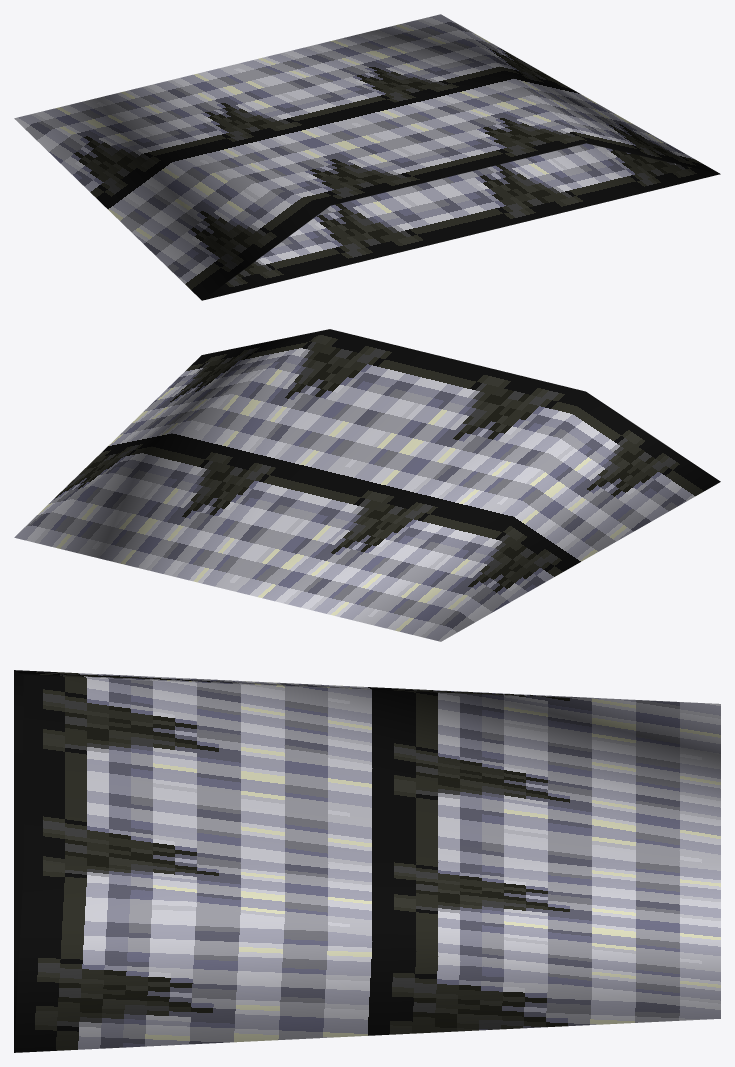
File: 2311skirt00_c.gltf
3 views of the same model, one above another, from view 1: azimuth 30°, elevation 25°; view 2: azimuth 150°, elevation 25°; view 3: azimuth 270°, elevation 25° (orthographic). The views are drawn at different scales.
Visible parts, largest first — view 1: 2311skirt00_c; view 2: 2311skirt00_c; view 3: 2311skirt00_c.
Boxes of the visible parts, x1,y1,x2,y2 form: 2311skirt00_c: [14, 14, 720, 300]; 2311skirt00_c: [14, 329, 720, 641]; 2311skirt00_c: [14, 670, 720, 1052].
Size of the model in its own units: 0.7896 by 0.0879 by 0.6162.
Materials: 1 (1 with a texture image).
